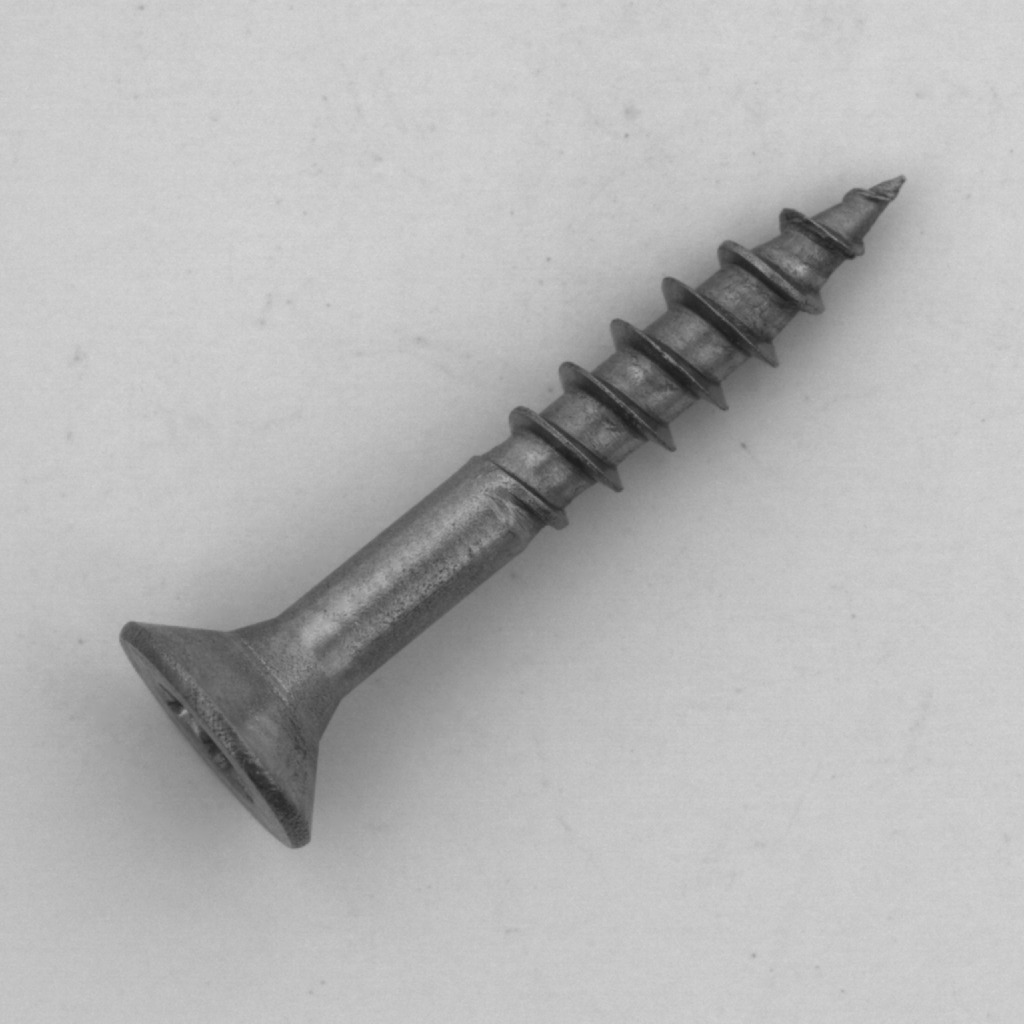good: (98, 158, 928, 862)
